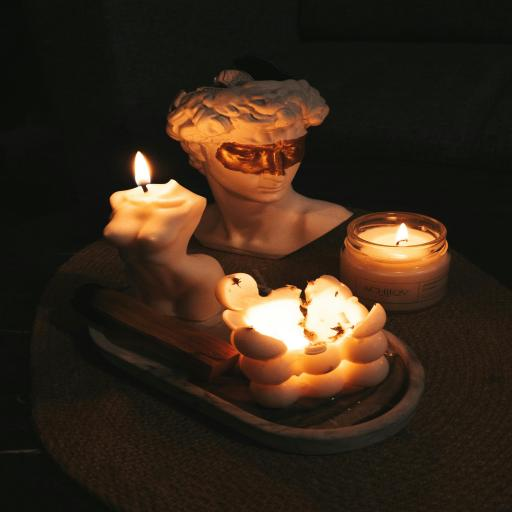candlelight: (235, 254, 382, 418), (93, 144, 224, 325), (338, 176, 448, 308)
